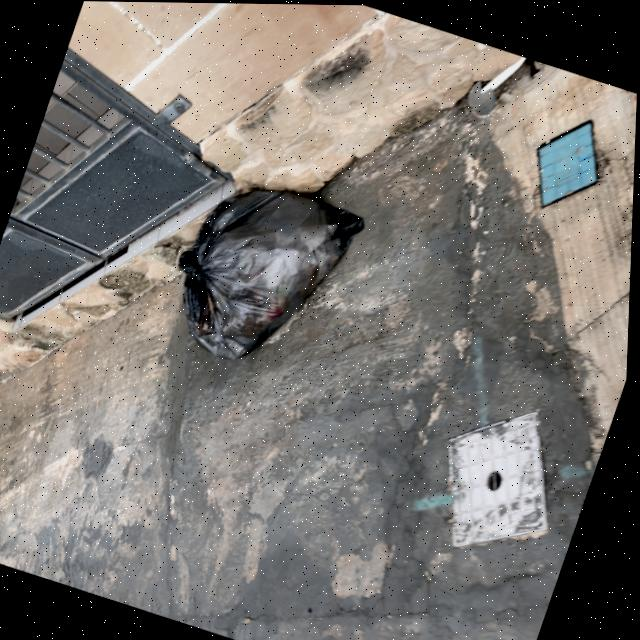Mixed Waste -Black Bag-: (156, 161, 372, 385)
